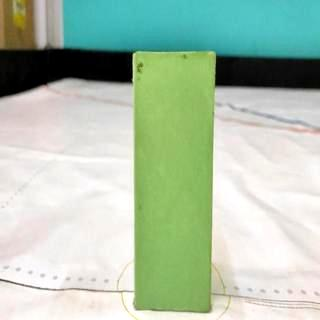greenbox: (132, 51, 212, 312)
